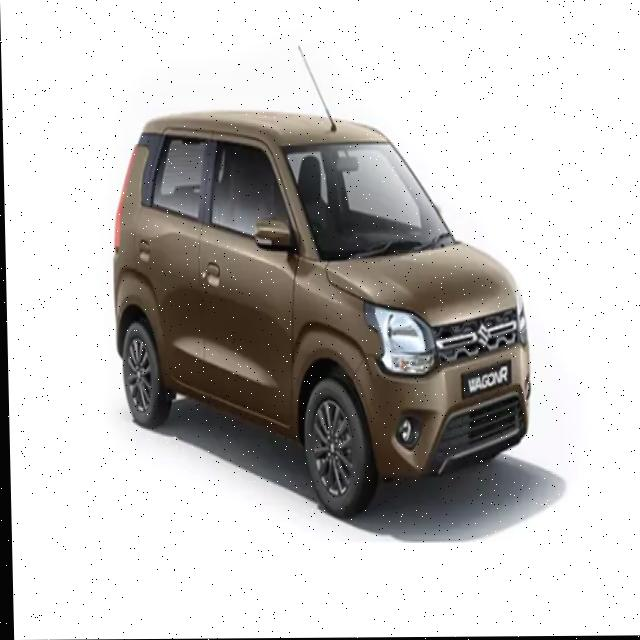car: (88, 75, 568, 544)
